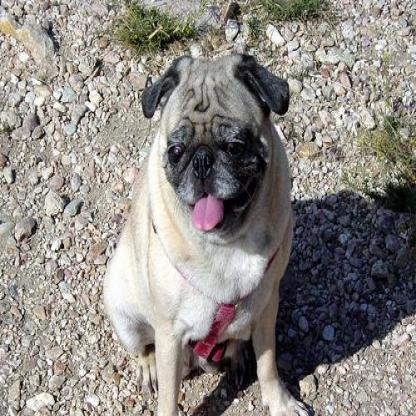pug: (100, 52, 308, 414)
